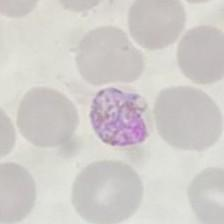Infected: (89, 86, 150, 145)
Uninfected: (152, 85, 220, 151), (78, 24, 146, 87), (71, 160, 141, 221), (15, 85, 77, 148), (140, 169, 197, 221), (128, 0, 186, 49), (176, 24, 223, 84)
